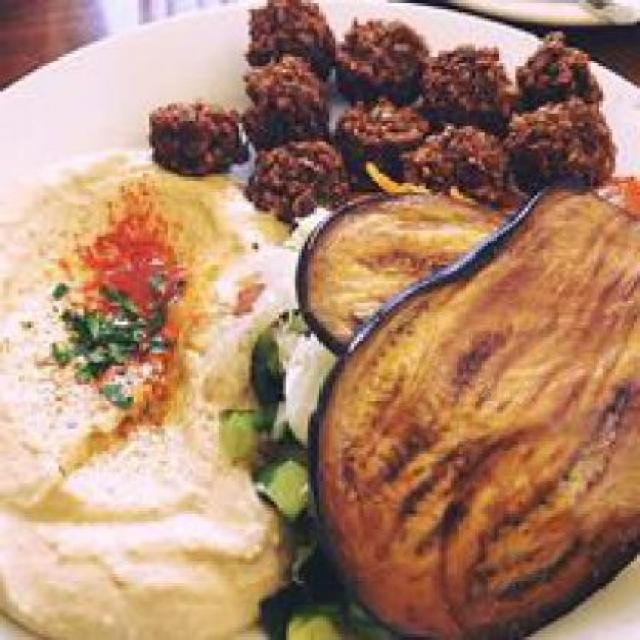hummus: (3, 164, 299, 638)
